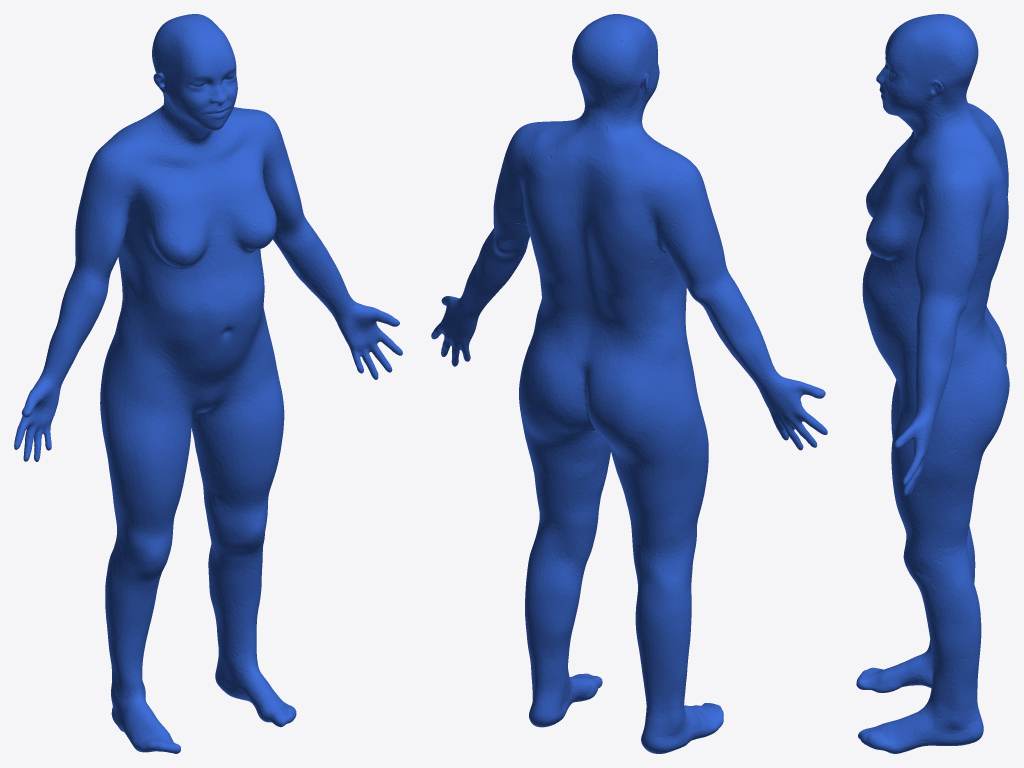
Rendered from skin_points.glb.
The picture shows the model from 3 angles, left to right: view 1: azimuth 30°, elevation 25°; view 2: azimuth 150°, elevation 25°; view 3: azimuth 270°, elevation 25°; orthographic projection.
Visible parts, largest first — view 1: VH_F_skin; view 2: VH_F_skin; view 3: VH_F_skin.
Boxes of the visible parts, x1,y1,x2,y2 form: VH_F_skin: (14, 14, 402, 753); VH_F_skin: (431, 14, 827, 753); VH_F_skin: (856, 14, 1009, 753).
Size of the model in its own units: 0.9674 by 1.67 by 0.3291.
